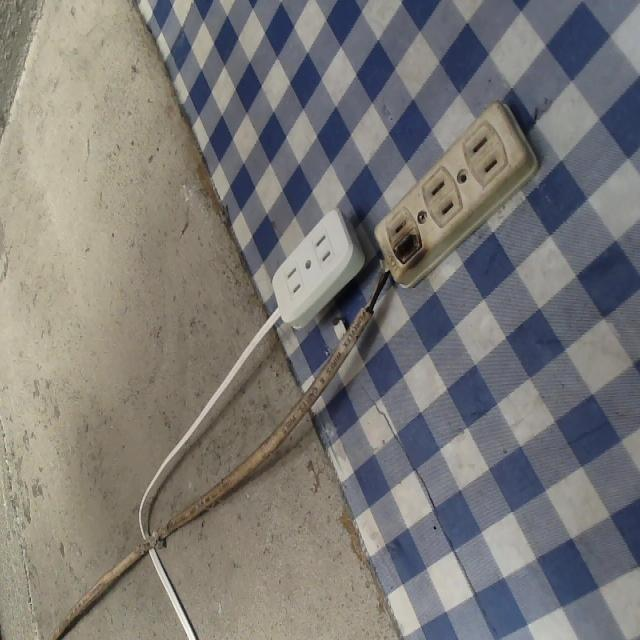-: (393, 224, 428, 273)
